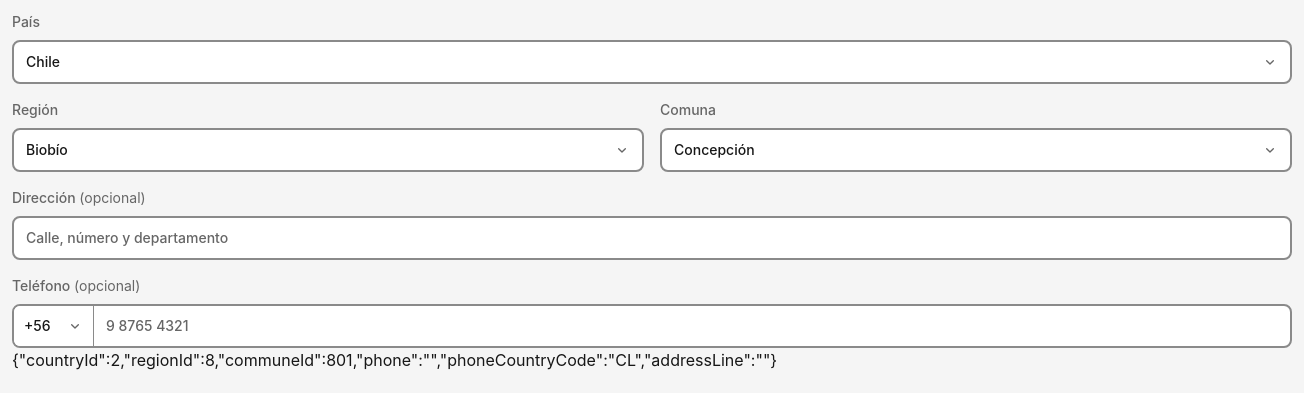
Test case: UserContactFields › keeps the selected commune pinned above search results
Click the button with aria-label "Comuna" at [714, 150], box 660,128 -> 1292,172
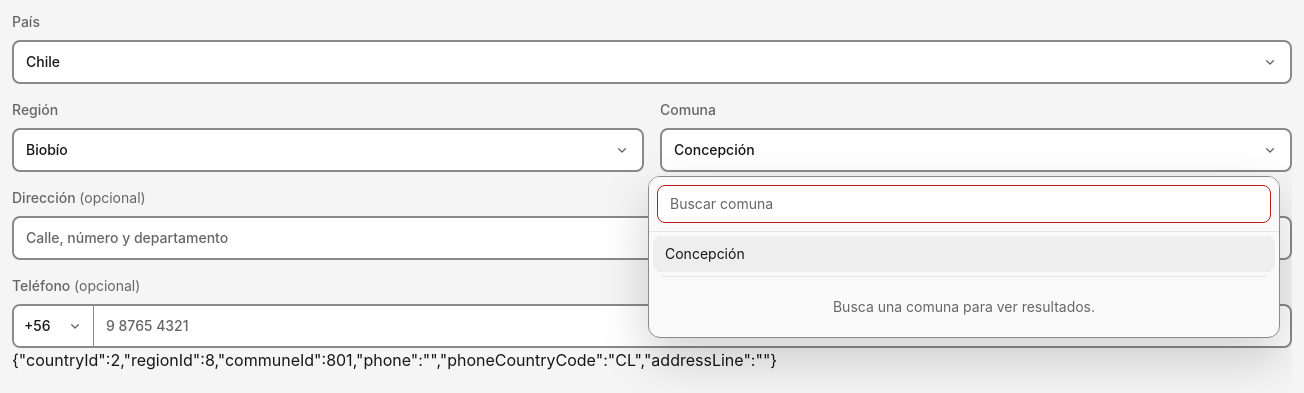
Check: the number of options is 1, box 653,236 -> 1275,272
Type "Coronel" into the search field labelled "Buscar comuna" at [964, 204], box 657,185 -> 1271,223
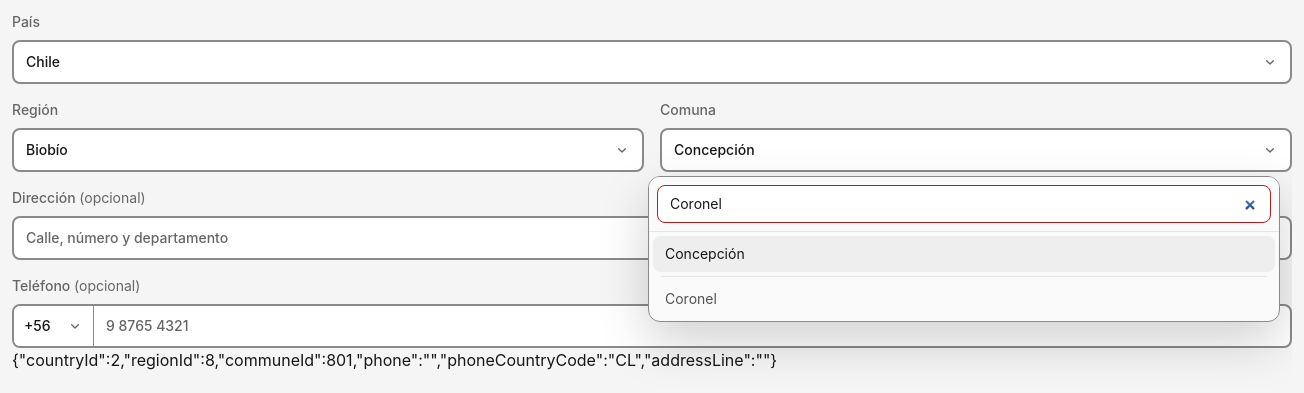
Check: the option "Concepción" is shown, box 653,236 -> 1275,272
Check: the option "Coronel" is shown, box 653,281 -> 1275,317
